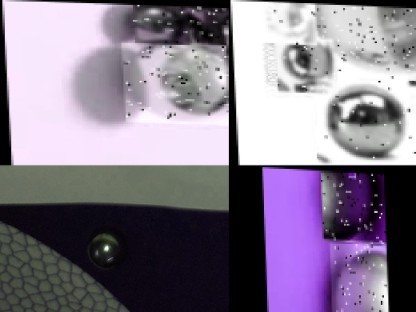ironball: (118, 41, 228, 124), (312, 77, 415, 165), (303, 2, 415, 79), (319, 169, 385, 242), (327, 241, 388, 311), (273, 36, 335, 92), (258, 1, 314, 44), (169, 4, 228, 44), (130, 3, 187, 43), (85, 234, 119, 269), (405, 67, 415, 114), (223, 33, 228, 109)
